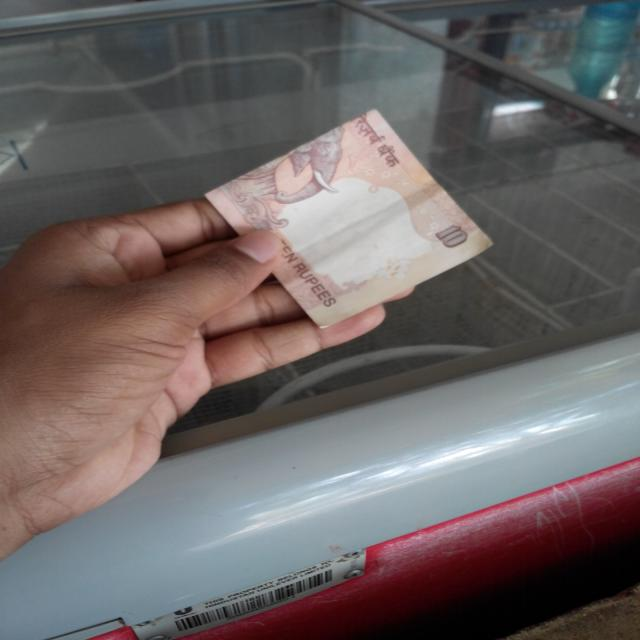10rs: (207, 109, 492, 328)
